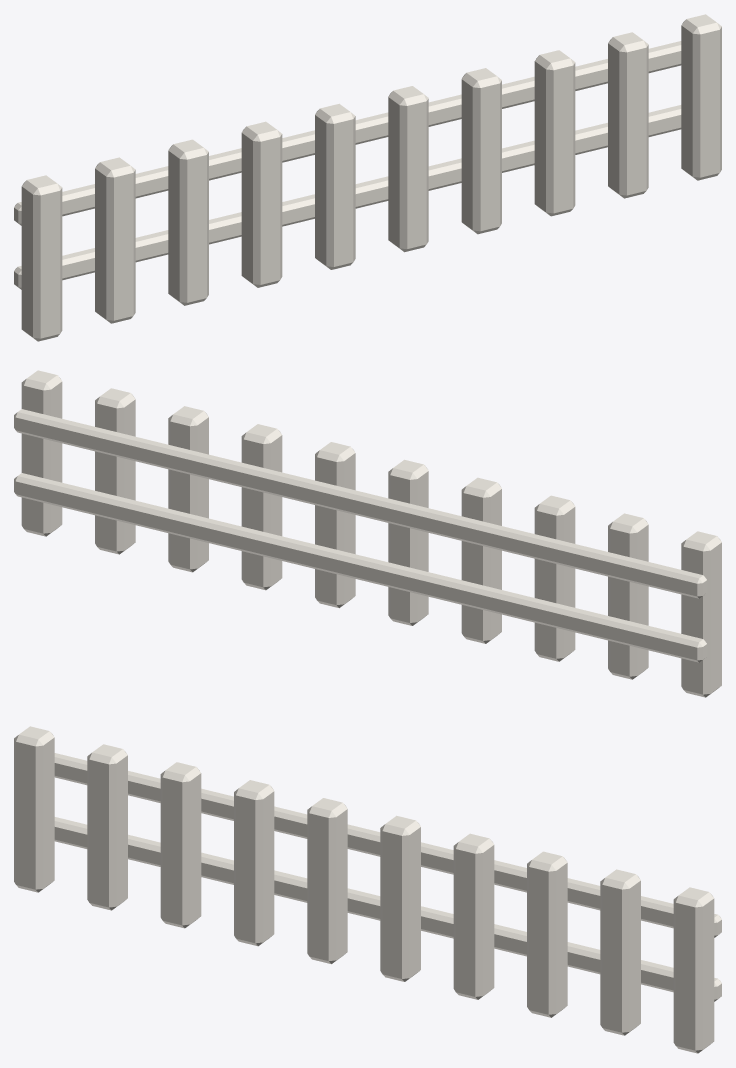
Rendered from PicketFence.fbx.
3 views of the same model, one above another, from view 1: azimuth 30°, elevation 25°; view 2: azimuth 150°, elevation 25°; view 3: azimuth 330°, elevation 25° (orthographic).
Visible parts, largest first — view 1: PicketFence_Posts, PicketFence_RailUpper, PicketFence_RailLower; view 2: PicketFence_Posts, PicketFence_RailLower, PicketFence_RailUpper; view 3: PicketFence_Posts, PicketFence_RailUpper, PicketFence_RailLower.
Part boxes in pixels (left/top/right/bottom): PicketFence_Posts: left=21, top=14, right=721, bottom=341; PicketFence_RailUpper: left=14, top=41, right=681, bottom=225; PicketFence_RailLower: left=14, top=105, right=681, bottom=289; PicketFence_Posts: left=21, top=370, right=721, bottom=697; PicketFence_RailLower: left=14, top=473, right=707, bottom=662; PicketFence_RailUpper: left=14, top=409, right=707, bottom=598; PicketFence_Posts: left=14, top=726, right=714, bottom=1053; PicketFence_RailUpper: left=54, top=753, right=721, bottom=937; PicketFence_RailLower: left=54, top=817, right=721, bottom=1001.
Bounding box in the file's own units: 0.282 × 0.06 × 0.017.
